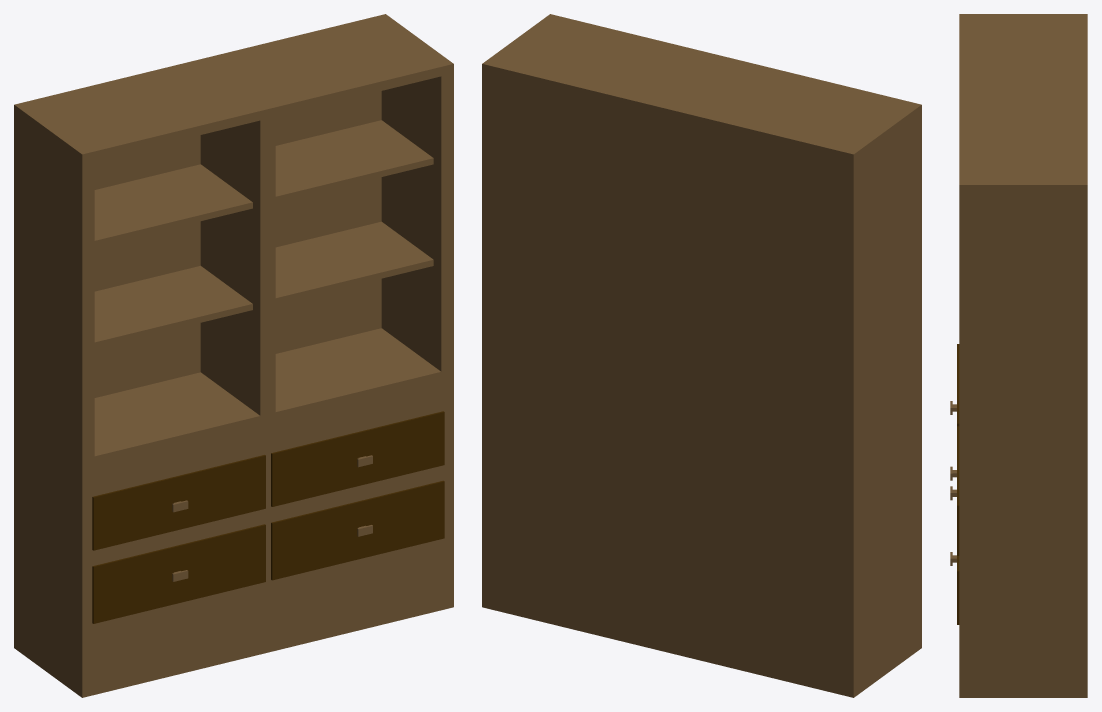
File: R_Cabinet.fbx
3 renders of one model, left to right at view 1: azimuth 30°, elevation 25°; view 2: azimuth 150°, elevation 25°; view 3: azimuth 270°, elevation 25°, orthographic. The views are drawn at different scales.
Visible parts, largest first — view 1: R_Cabinet; view 2: R_Cabinet; view 3: R_Cabinet.
Boxes of the visible parts, x1,y1,x2,y2 form: R_Cabinet: (14,14,453,697); R_Cabinet: (482,14,921,697); R_Cabinet: (950,14,1087,697).
Size of the model in its own units: 1138 by 386 by 1590.
